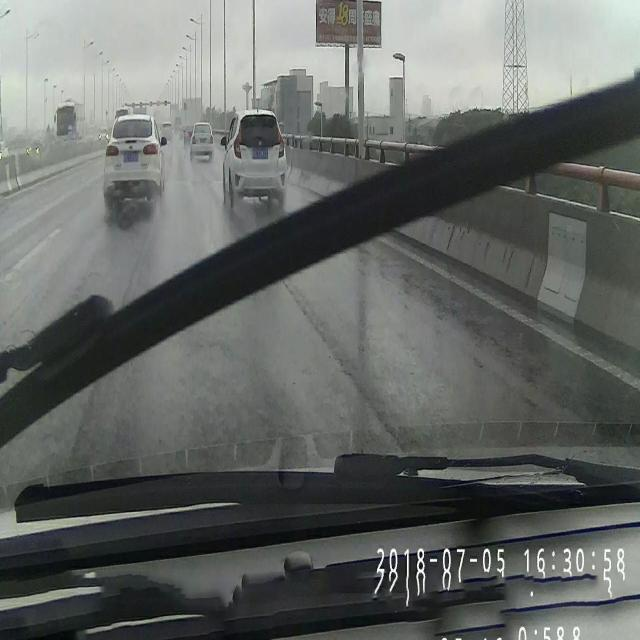car: (221, 109, 288, 212), (102, 114, 164, 212), (190, 120, 213, 162), (162, 119, 174, 142), (183, 124, 192, 146)
